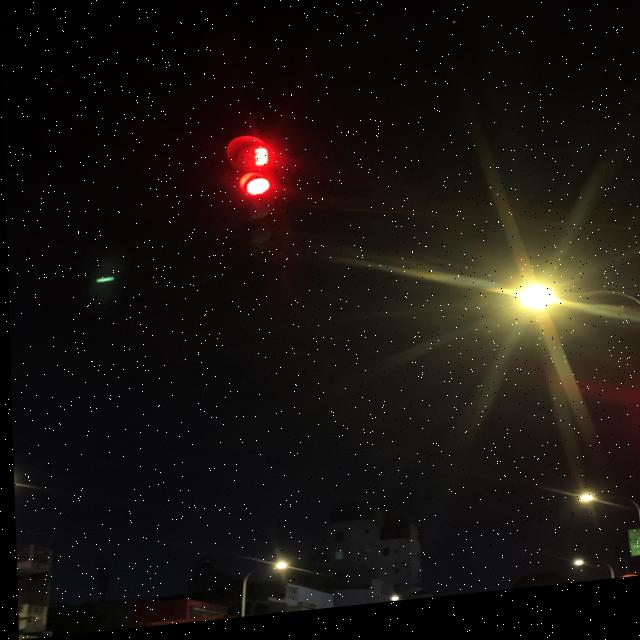Red: (226, 172, 286, 267)
